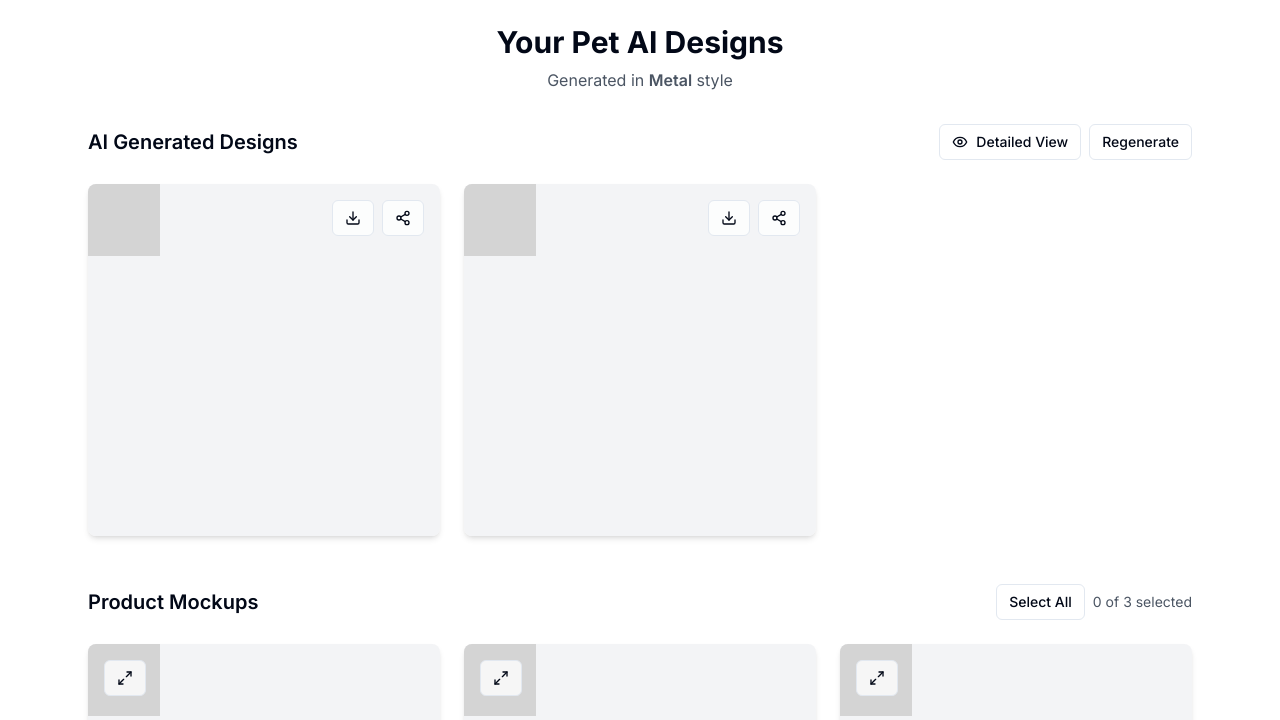
Test: ResultsGallery › toggles between grid and detailed view
This screenshot has width=1280, height=720.
Click the button "Detailed View": x=1010, y=142 x1=939 y1=124 x2=1081 y2=160
(page scrolled)
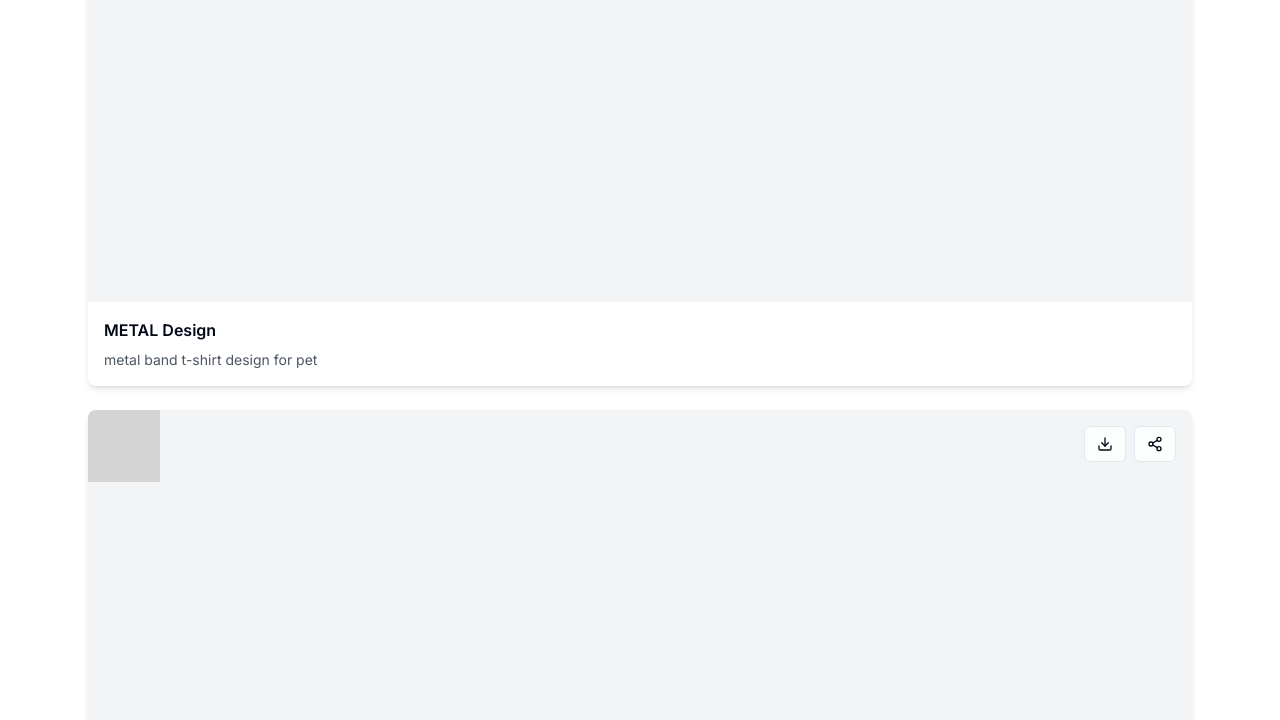
Check: the heading "METAL Design" is shown, box x1=104 y1=320 x2=216 y2=340
Check: the text "metal band t-shirt design for pet" is shown, box x1=104 y1=351 x2=317 y2=368
